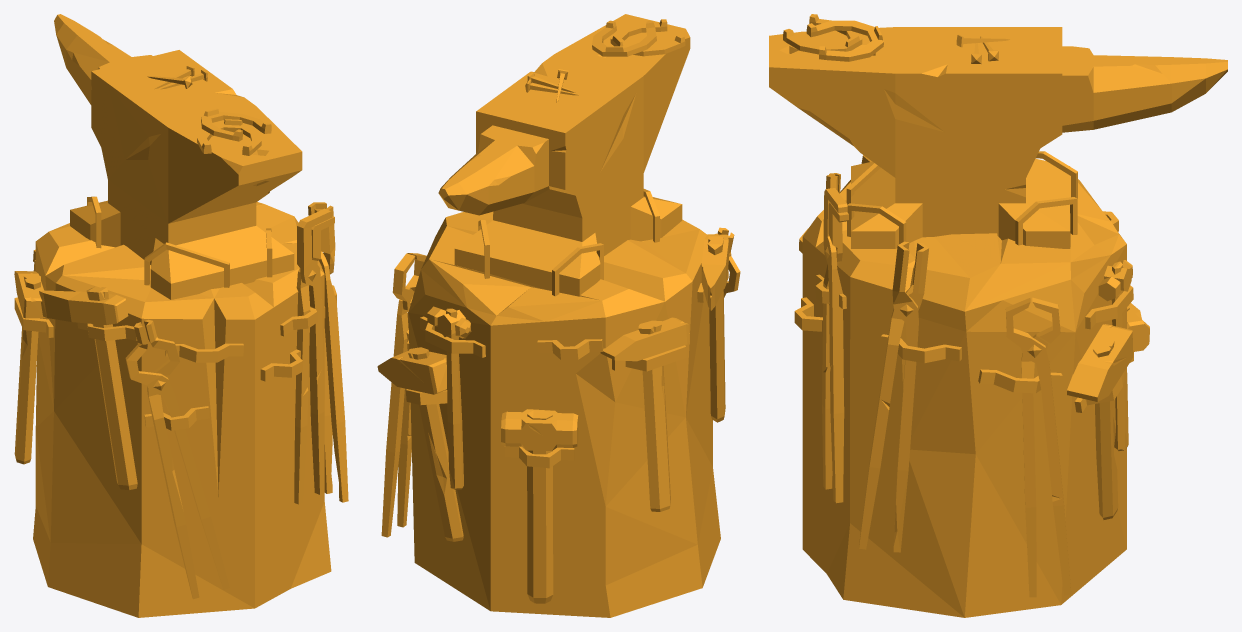
The model's file is SM_Anvil_Stump_Fantasy_B.fbx.
3 renders of one model, left to right at view 1: azimuth 30°, elevation 25°; view 2: azimuth 150°, elevation 25°; view 3: azimuth 270°, elevation 25°, orthographic. The views are drawn at different scales.
Visible parts, largest first — view 1: anvil-stump-medieval-b; view 2: anvil-stump-medieval-b; view 3: anvil-stump-medieval-b.
Boxes of the visible parts, <box> form: anvil-stump-medieval-b: <box>14,14,348,617</box>; anvil-stump-medieval-b: <box>377,14,740,617</box>; anvil-stump-medieval-b: <box>769,14,1227,617</box>.
Size of the model in its own units: 0.6325 by 1.04 by 0.832.
